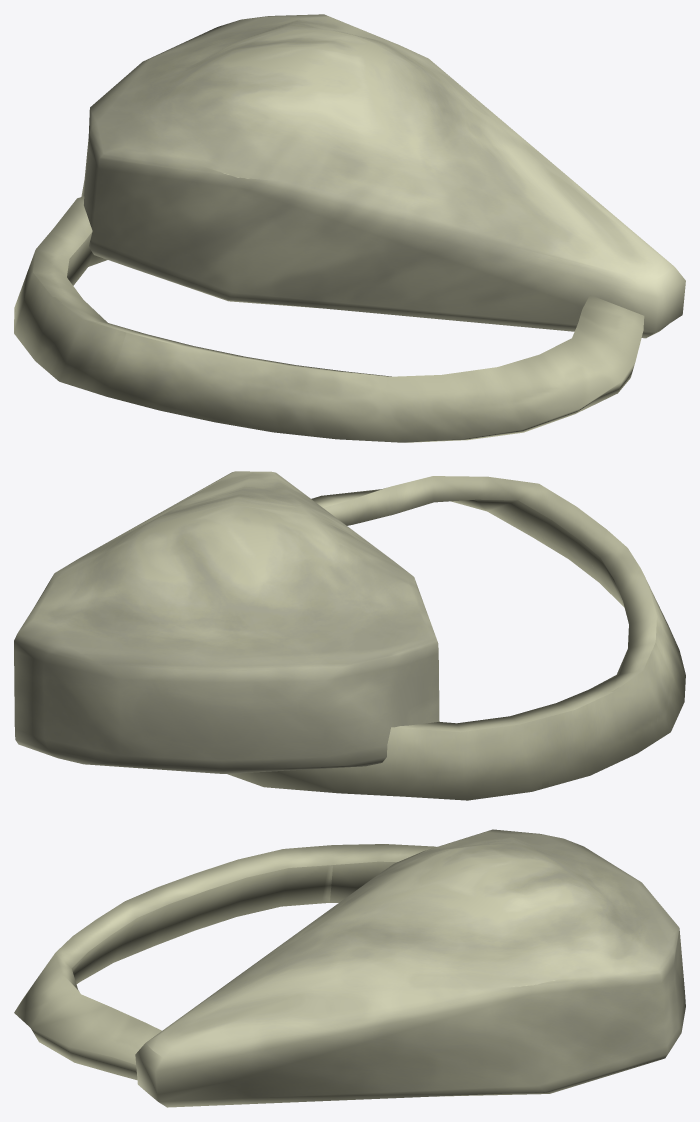
Rendered from Sheet_Bag_Ground.FBX.
3 renders of one model, top to bottom at view 1: azimuth 30°, elevation 25°; view 2: azimuth 150°, elevation 25°; view 3: azimuth 270°, elevation 25°, orthographic. The views are drawn at different scales.
Parts seen in each view (by area): view 1: SheetBag; view 2: SheetBag; view 3: SheetBag.
Boxes of the visible parts, <box> form: SheetBag: <box>14,14,685,442</box>; SheetBag: <box>14,471,685,800</box>; SheetBag: <box>14,829,685,1107</box>.
Size of the model in its own units: 0.2205 by 0.0783 by 0.2747.
